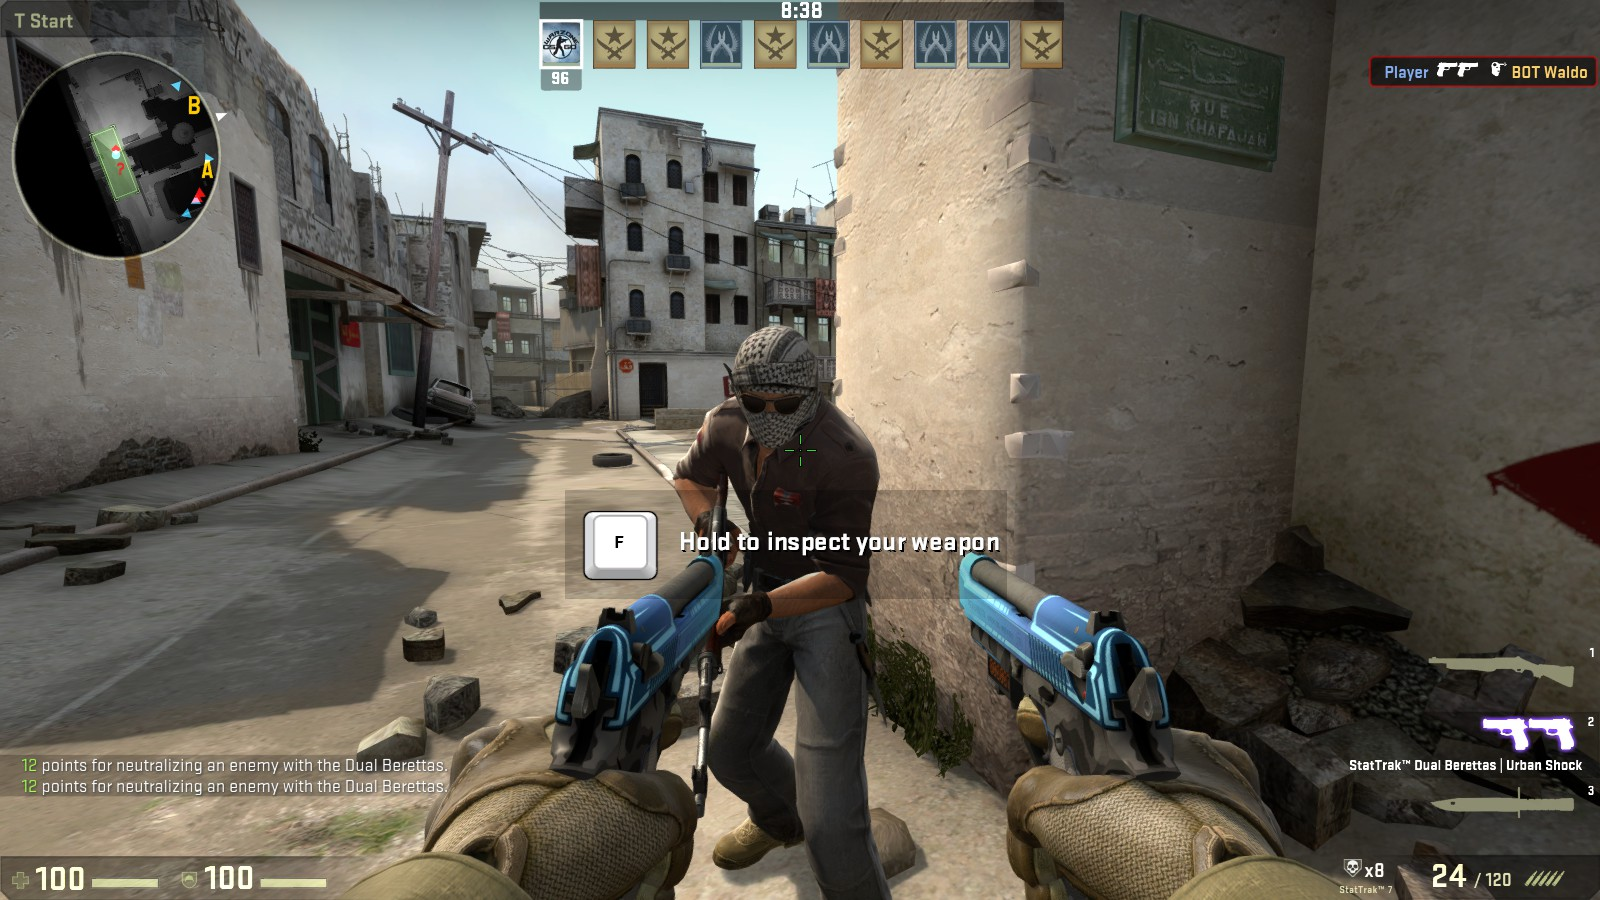t: (657, 315, 913, 900)
th: (722, 318, 824, 454)
